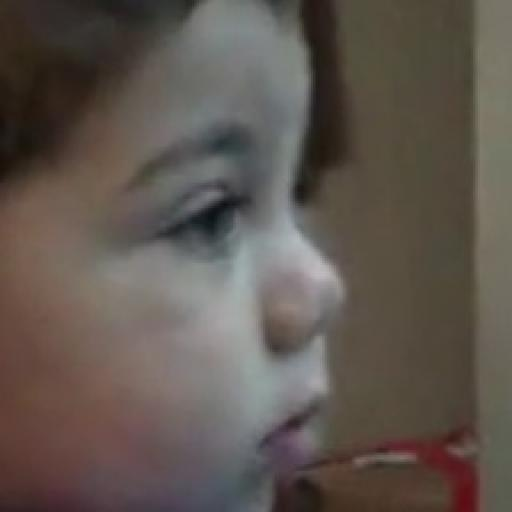Autism: (25, 36, 394, 494)
